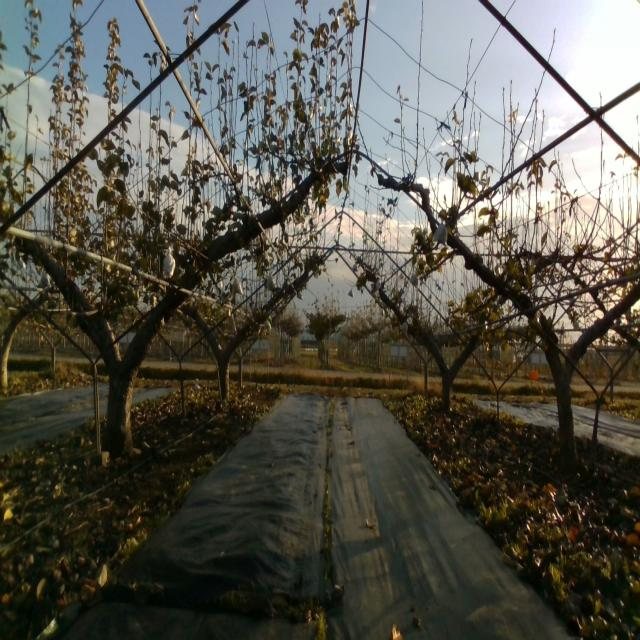pearbags: (432, 221, 448, 249), (163, 245, 176, 279), (231, 277, 244, 298), (266, 273, 276, 290)
